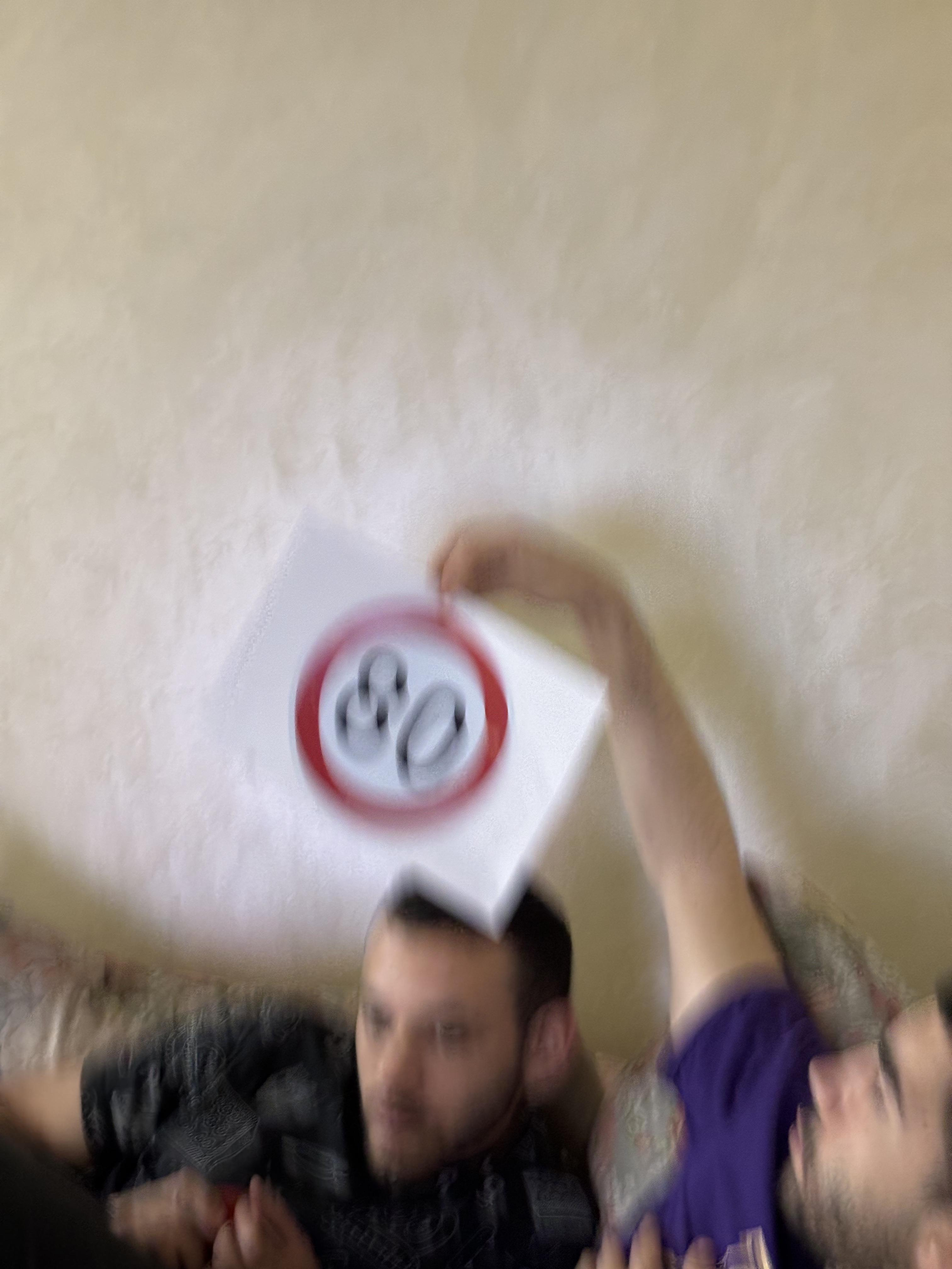80-Speed: (284, 599, 515, 840)
